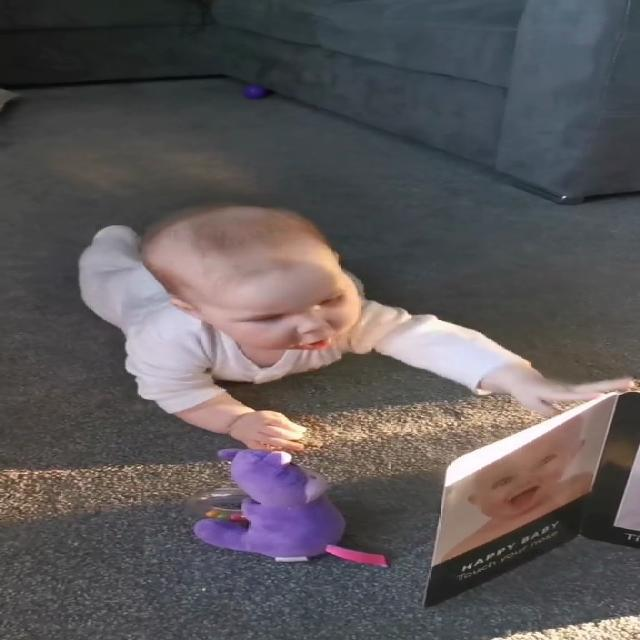baby: (68, 203, 640, 464)
